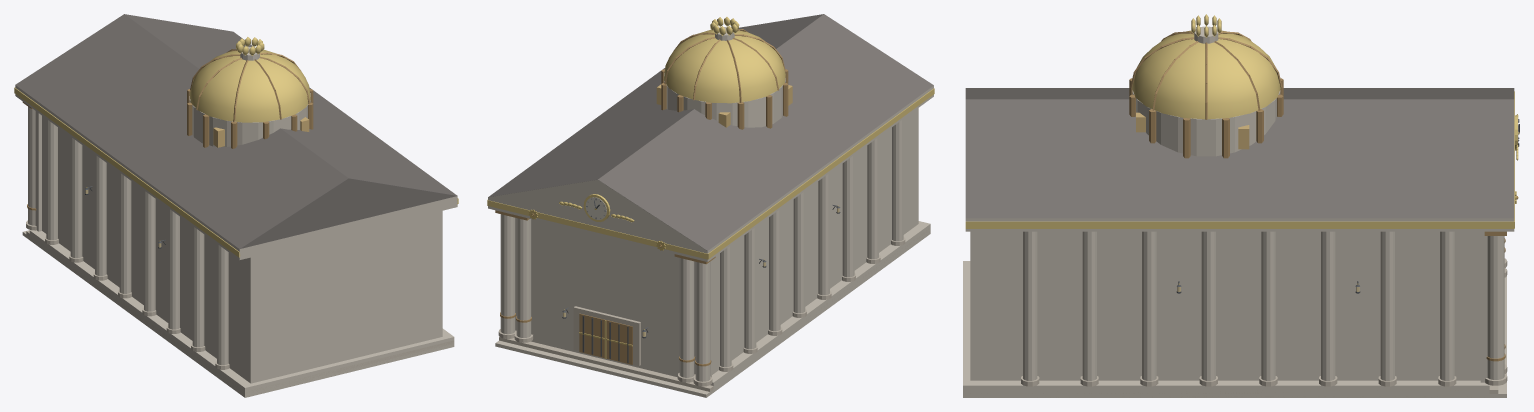
The model's file is centro-hall-77b2739d.glb.
3 renders of one model, left to right at view 1: azimuth 30°, elevation 25°; view 2: azimuth 150°, elevation 25°; view 3: azimuth 270°, elevation 25°, orthographic. The views are drawn at different scales.
Visible parts, largest first — view 1: centro_hall_body, centro_hall_wall, centro_hall_glow, centro_hall_lamp; view 2: centro_hall_body, centro_hall_wall, centro_hall_glow, centro_hall_lamp; view 3: centro_hall_body, centro_hall_wall, centro_hall_glow, centro_hall_lamp.
Part boxes in pixels (<box>): centro_hall_body: <box>15,14,457,397</box>; centro_hall_wall: <box>35,93,442,383</box>; centro_hall_glow: <box>14,37,458,257</box>; centro_hall_lamp: <box>85,117,309,247</box>; centro_hall_body: <box>488,14,933,397</box>; centro_hall_wall: <box>515,73,918,377</box>; centro_hall_glow: <box>487,17,934,259</box>; centro_hall_lamp: <box>563,84,839,336</box>; centro_hall_body: <box>963,26,1519,397</box>; centro_hall_wall: <box>970,90,1487,382</box>; centro_hall_glow: <box>965,14,1518,228</box>; centro_hall_lamp: <box>1136,112,1359,291</box>.
Bounding box in the file's own units: 12.48 × 14.03 × 22.42.
